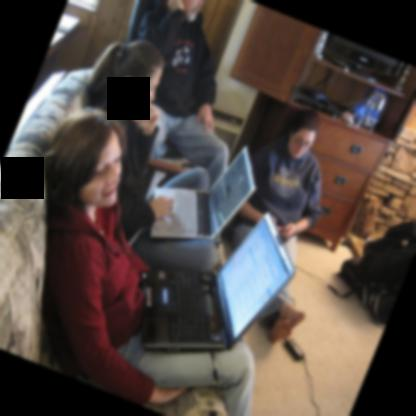backpack: (326, 219, 416, 300)
